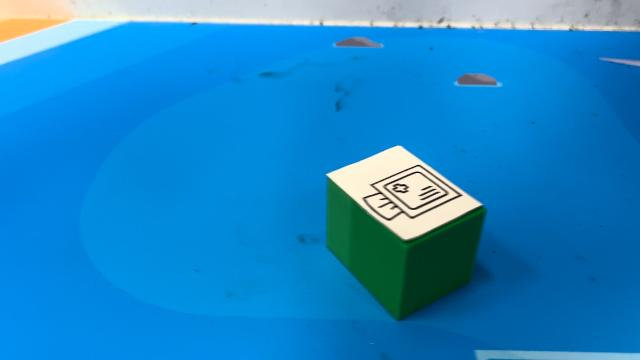napkin: (324, 142, 488, 322)
